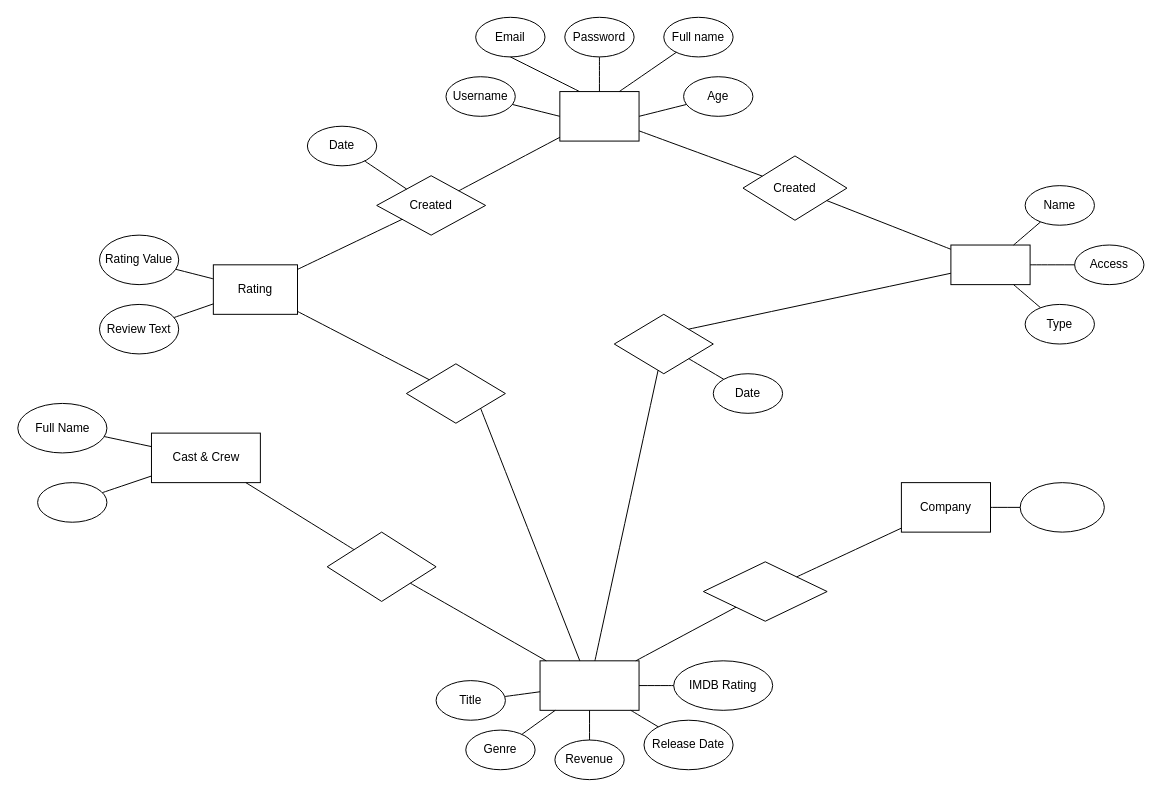
The diagram is 1161 pixels wide and 797 high, and some of its shapes have lost their labels. Each missing label, with the centre of its shape:
Contains: the point at 663,343
For: the point at 455,393
Legal Name: the point at 1061,507
Lists: the point at 990,264
Movie / Series: the point at 589,685
Participiated: the point at 381,566
Produced: the point at 764,591
Rule: the point at 72,502
User: the point at 599,116
